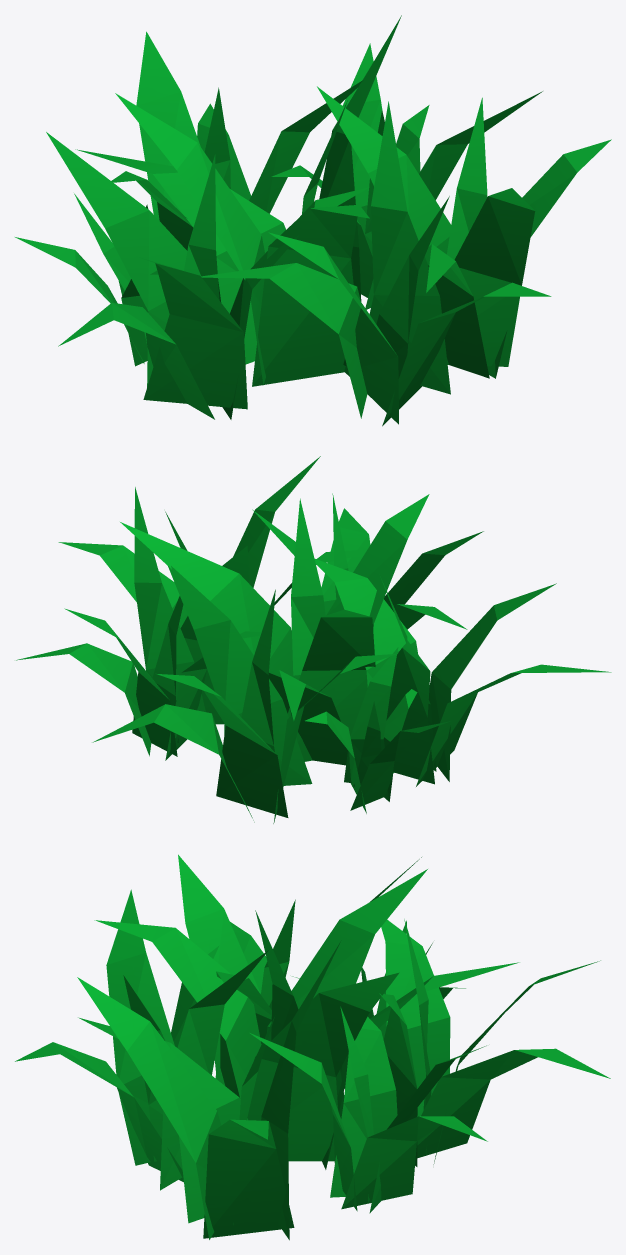
File: grass.glb
3 views of the same model, one above another, from view 1: azimuth 30°, elevation 25°; view 2: azimuth 150°, elevation 25°; view 3: azimuth 270°, elevation 25° (orthographic). The views are drawn at different scales.
Visible parts, largest first — view 1: grass_bunch_merged.008; view 2: grass_bunch_merged.008; view 3: grass_bunch_merged.008.
Boxes of the visible parts, x1,y1,x2,y2 form: grass_bunch_merged.008: (15, 15, 611, 426); grass_bunch_merged.008: (16, 456, 611, 823); grass_bunch_merged.008: (15, 854, 610, 1240).
Bounding box in the file's own units: 2.18 × 1.01 × 2.01.
1 material, 1 textured.
